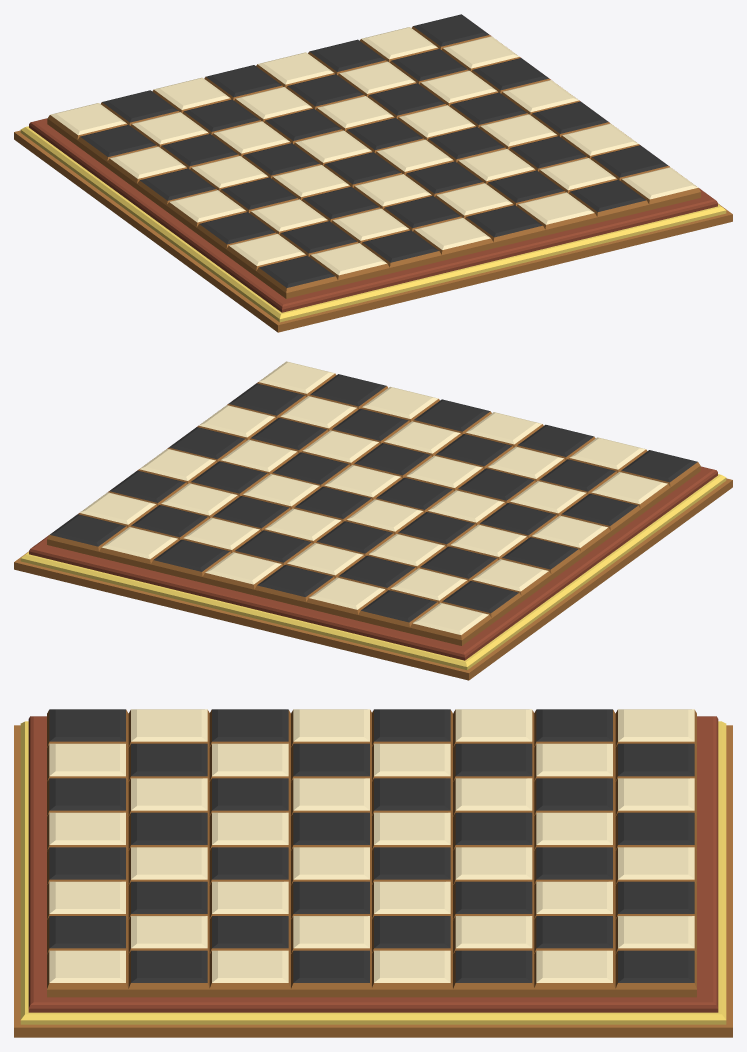
File: Chess board.fbx
3 renders of one model, top to bottom at view 1: azimuth 30°, elevation 25°; view 2: azimuth 150°, elevation 25°; view 3: azimuth 270°, elevation 25°, orthographic. The views are drawn at different scales.
Visible parts, largest first — view 1: Cube; view 2: Cube; view 3: Cube.
Part boxes in pixels (<box>): Cube: <box>14,14,732,332</box>; Cube: <box>14,361,732,680</box>; Cube: <box>14,709,732,1037</box>.
Size of the model in its own units: 1751 by 115 by 1760.
